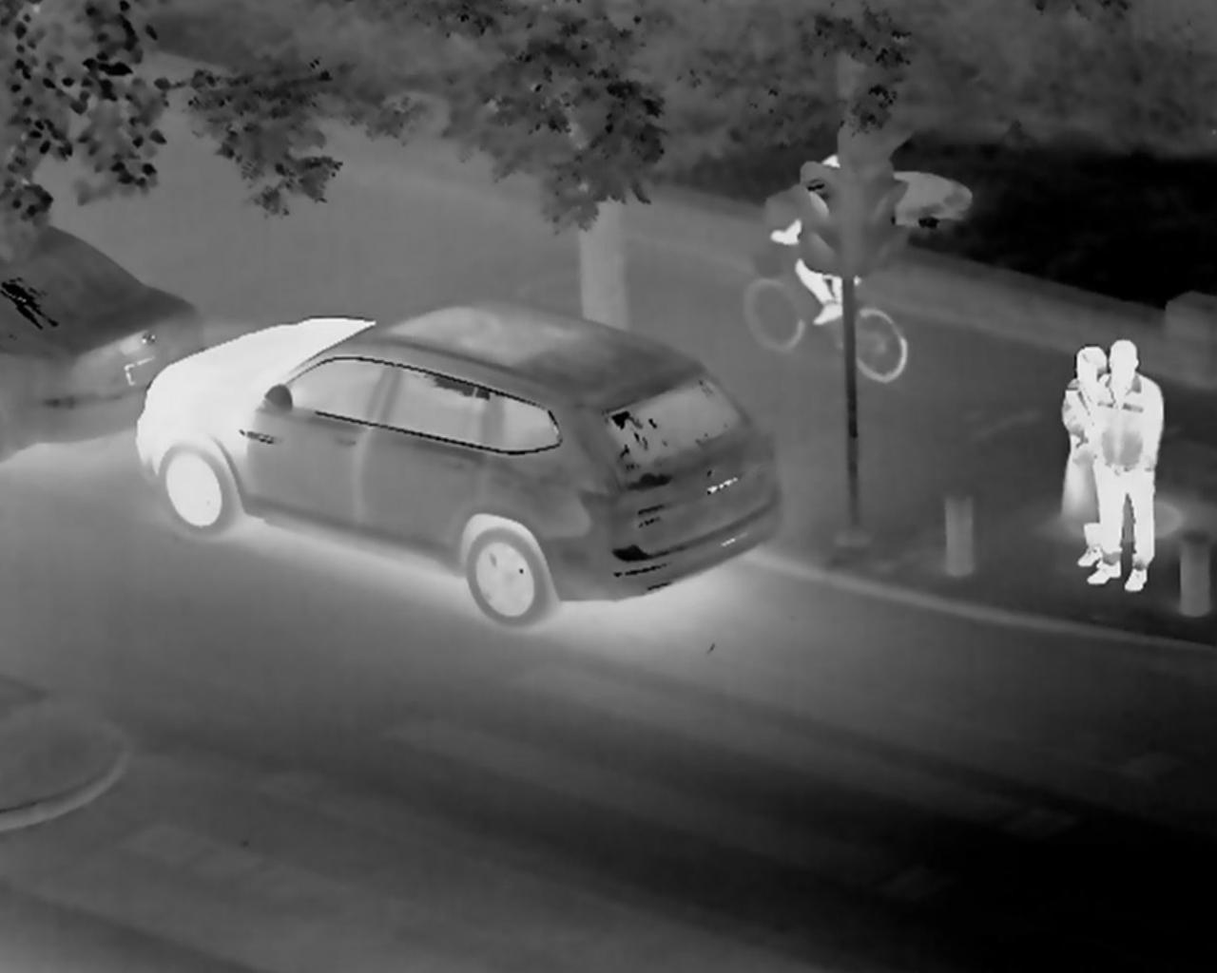person: (1094, 344, 1158, 590), (1069, 338, 1098, 544)
